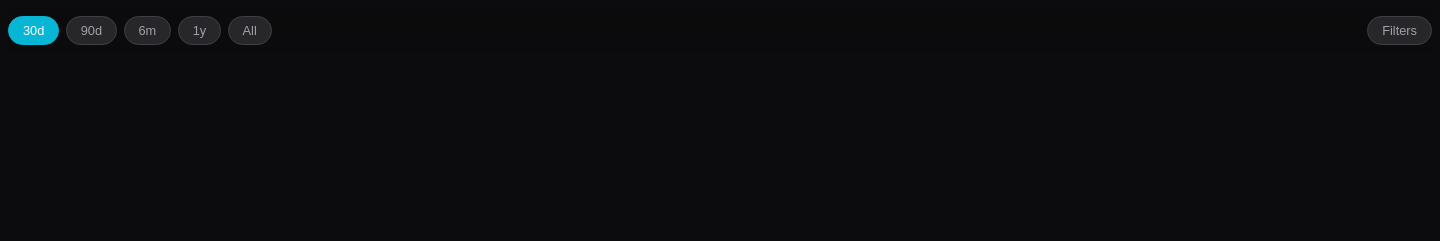
AnalyticsFilterBar › collapses when clicking Filters toggle again
The width and height of the screenshot is (1440, 241).
Click the button "Filters".
click(1400, 30)  # box [1367,16,1432,45]
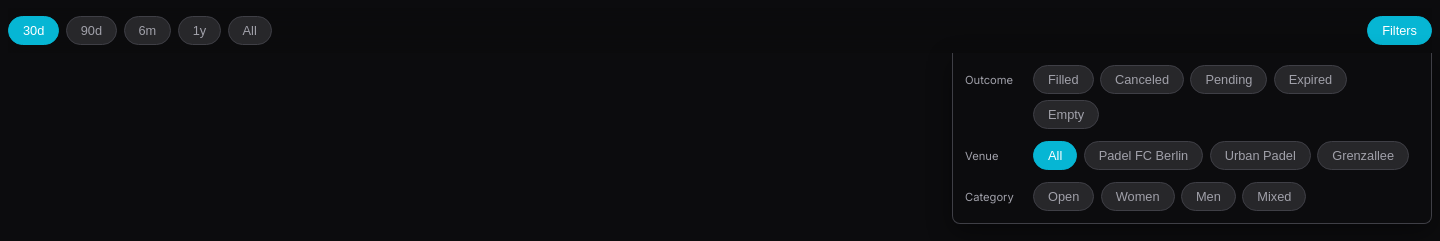
Check: the button "Filled" is shown, box [1033,65,1094,94]
Click the button "Filters".
click(1400, 30)  # box [1367,16,1432,45]
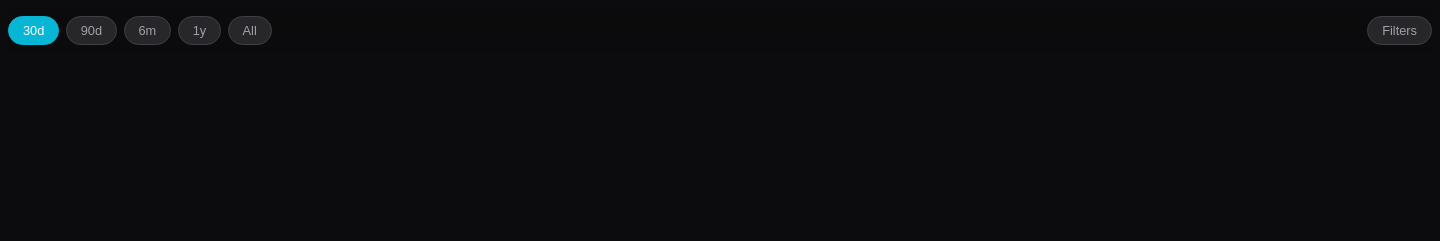
Check: the button "Filled" is gone
